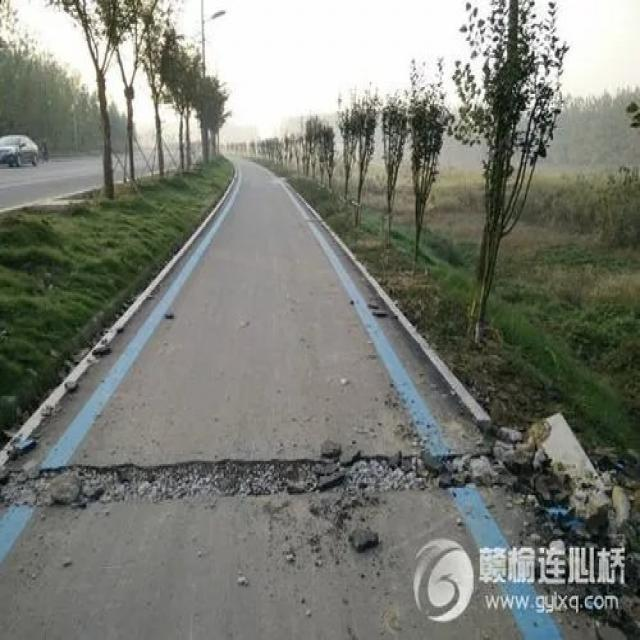pothole: (19, 459, 511, 499)
